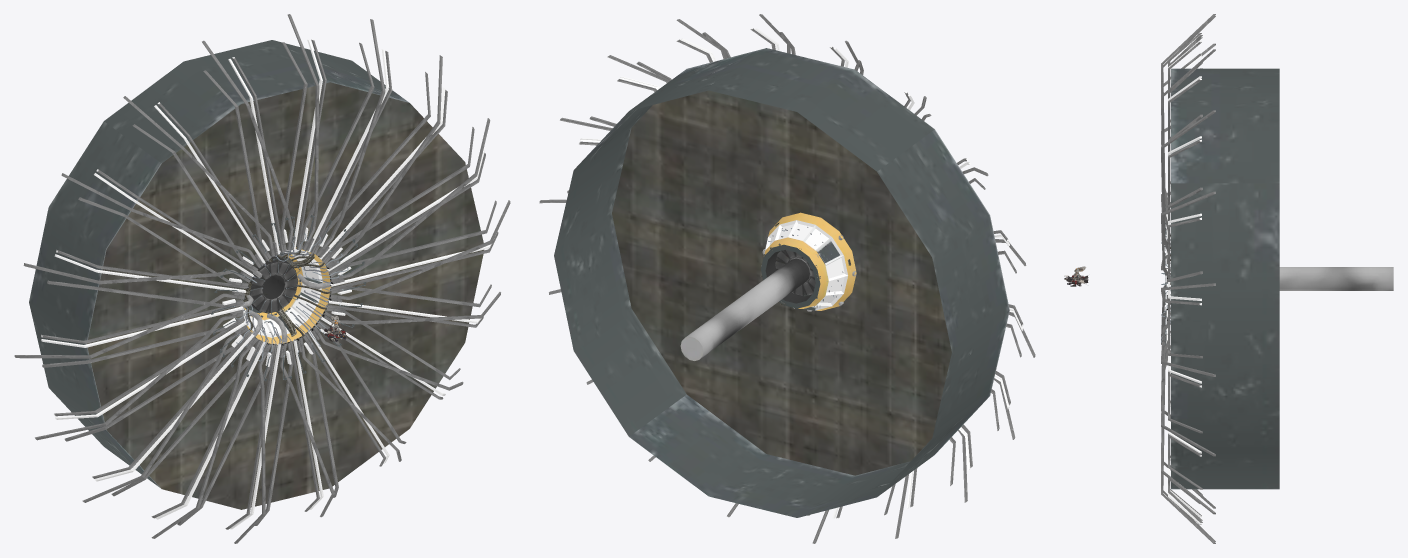
Rendered from flying_robot.glb.
The picture shows the model from 3 angles, left to right: view 1: azimuth 30°, elevation 25°; view 2: azimuth 150°, elevation 25°; view 3: azimuth 270°, elevation 25°; orthographic projection. The views are drawn at different scales.
Visible parts, largest first — view 1: polySurface206_pasted__M_Title_Ceiling_0; view 2: polySurface206_pasted__M_Title_Ceiling_0; view 3: polySurface206_pasted__M_Title_Ceiling_0.
Part boxes in pixels (x1,y1,x2,y2): polySurface206_pasted__M_Title_Ceiling_0: [14, 14, 510, 543]; polySurface206_pasted__M_Title_Ceiling_0: [539, 14, 1035, 543]; polySurface206_pasted__M_Title_Ceiling_0: [1161, 14, 1393, 543].
Bounding box in the file's own units: 12648 × 12591 × 7789.
Materials: 5 (5 with a texture image).
